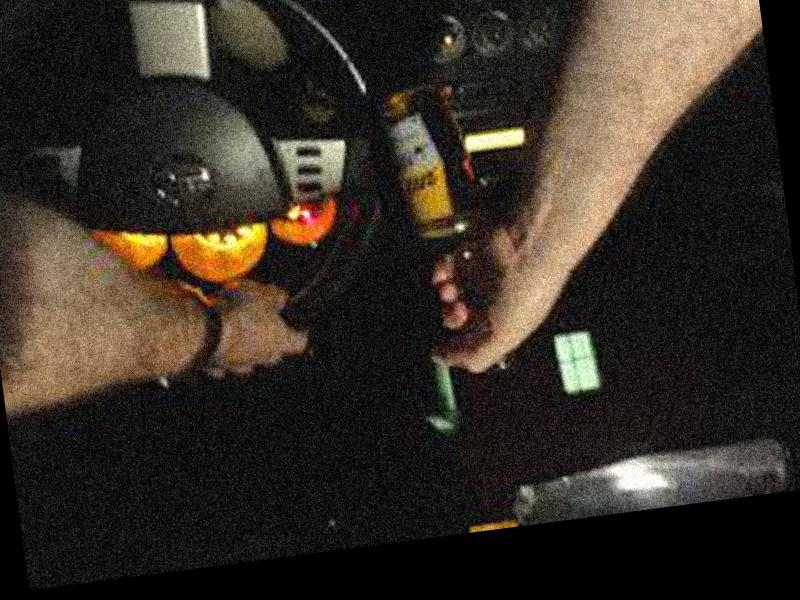Beer: (367, 81, 517, 381)
